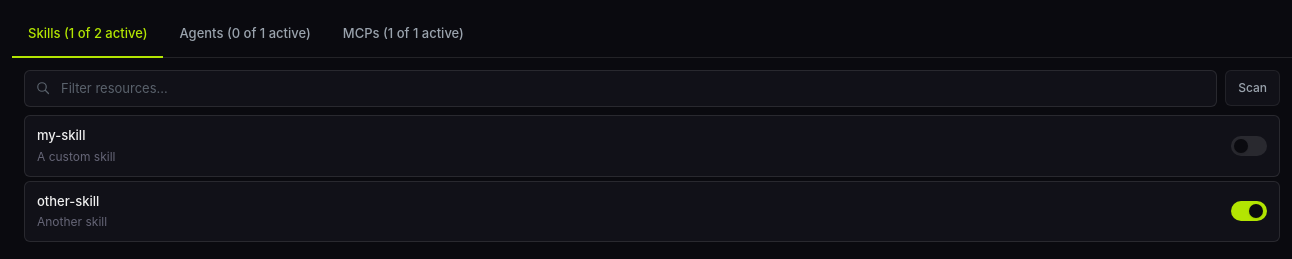
ResourceConfig › data state › switches to agents tab on click
Click the tab with test id "resource-tab-agent" at (245, 35), box [164,12,327,58]
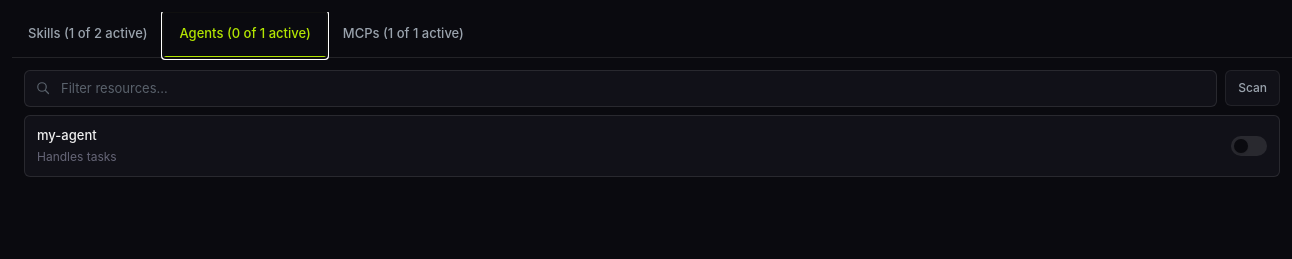
Check: the text "my-agent" is shown, box [37,126,97,146]
